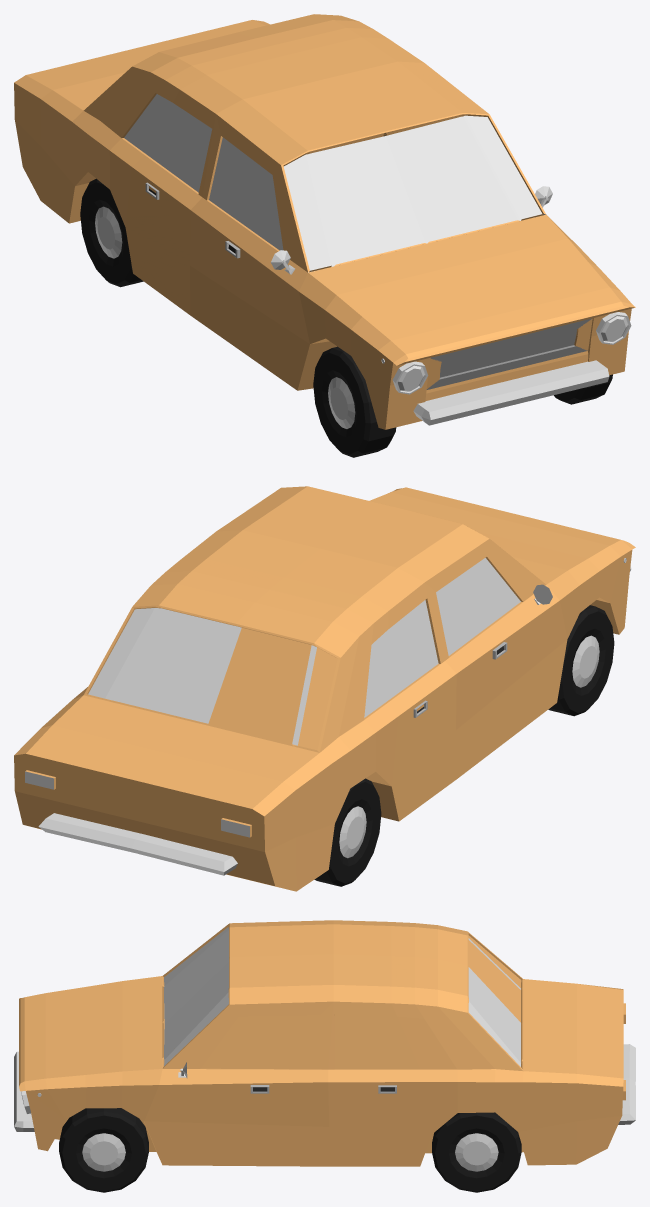
The picture shows the model from 3 angles, top to bottom: view 1: azimuth 30°, elevation 25°; view 2: azimuth 150°, elevation 25°; view 3: azimuth 270°, elevation 25°; orthographic projection. The views are drawn at different scales.
Visible parts, largest first — view 1: ВАЗ; view 2: ВАЗ; view 3: ВАЗ.
Boxes of the visible parts, left/top/right/bottom form: ВАЗ: left=14, top=14, right=635, bottom=457; ВАЗ: left=14, top=486, right=635, bottom=891; ВАЗ: left=14, top=920, right=635, bottom=1192.
Bounding box in the file's own units: 158 × 128 × 377.
